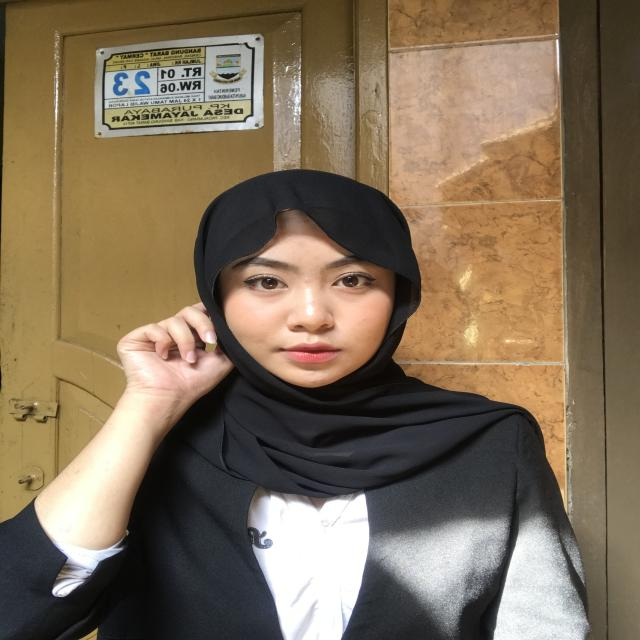ibu: (94, 284, 240, 441)
